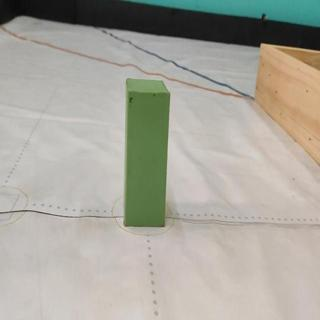greenbox: (125, 77, 170, 228)
